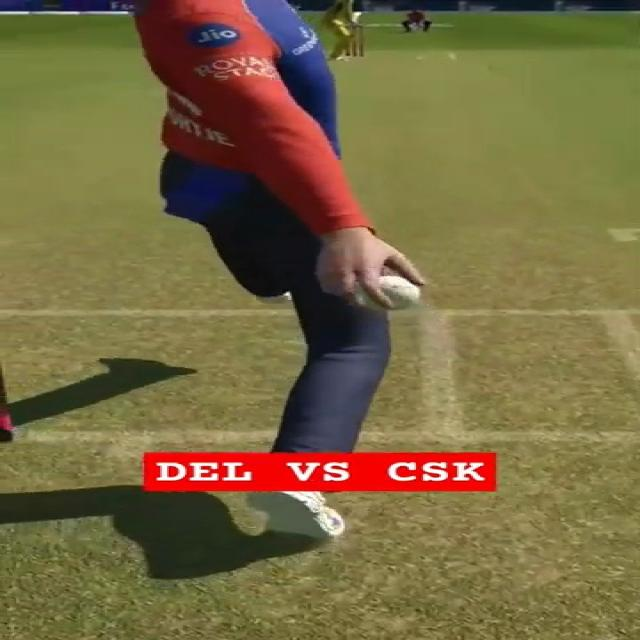ball: (357, 275, 420, 310)
